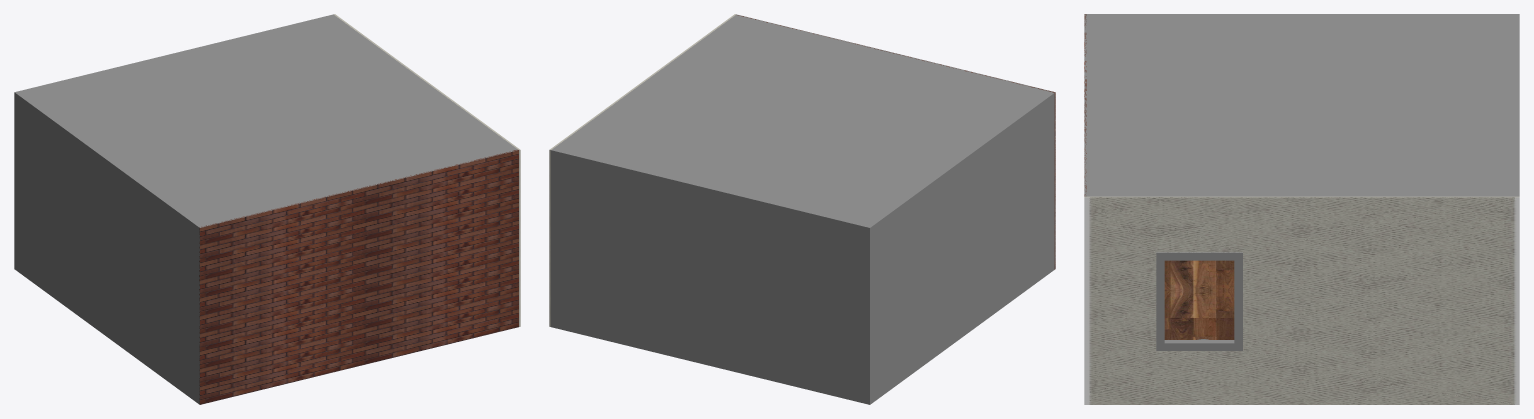
The model's file is cena.FBX.
3 views of the same model, side by side, from view 1: azimuth 30°, elevation 25°; view 2: azimuth 150°, elevation 25°; view 3: azimuth 270°, elevation 25° (orthographic). The views are drawn at different scales.
Parts seen in each view (by area): view 1: Box001, Parede-A, Object003, Object001; view 2: Box001, Object001, Object003, Parede-A; view 3: Object003, Box001, Piso, Object002.
Part boxes in pixels (x1,y1,x2,y2): Box001: (14, 14, 517, 404); Parede-A: (199, 149, 518, 404); Object003: (334, 14, 520, 326); Object001: (16, 262, 198, 401); Box001: (551, 14, 1055, 404); Object001: (551, 260, 1054, 404); Object003: (549, 14, 735, 326); Parede-A: (737, 15, 1055, 269); Object003: (1084, 196, 1519, 404); Box001: (1084, 14, 1519, 196); Piso: (1164, 260, 1234, 339); Object002: (1156, 252, 1242, 350).
Bounding box in the file's own units: 585 × 309 × 584.
